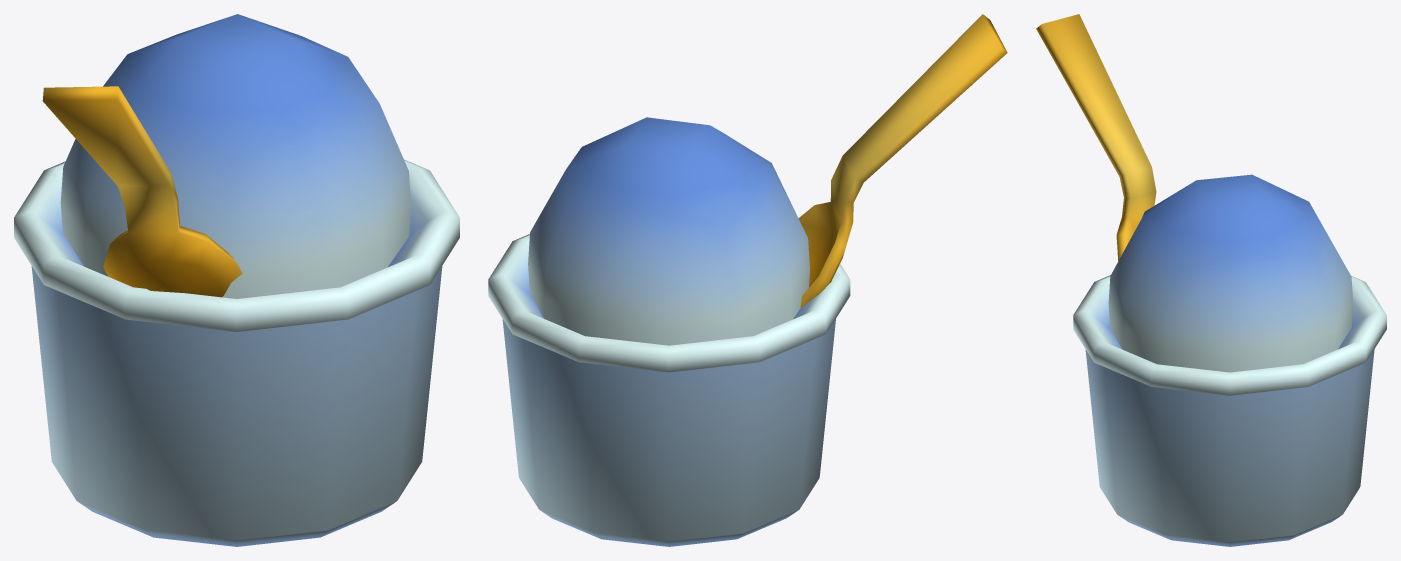
Rendered from m_ShavedIce04.fbx.
3 views of the same model, side by side, from view 1: azimuth 30°, elevation 25°; view 2: azimuth 150°, elevation 25°; view 3: azimuth 270°, elevation 25° (orthographic). The views are drawn at different scales.
Parts seen in each view (by area): view 1: m_ShavedIce04; view 2: m_ShavedIce04; view 3: m_ShavedIce04.
Boxes of the visible parts, bbox=[...] form: m_ShavedIce04: bbox=[14, 14, 459, 546]; m_ShavedIce04: bbox=[488, 14, 1007, 546]; m_ShavedIce04: bbox=[1036, 14, 1386, 546].
Size of the model in its own units: 17.63 by 18.57 by 15.27.
